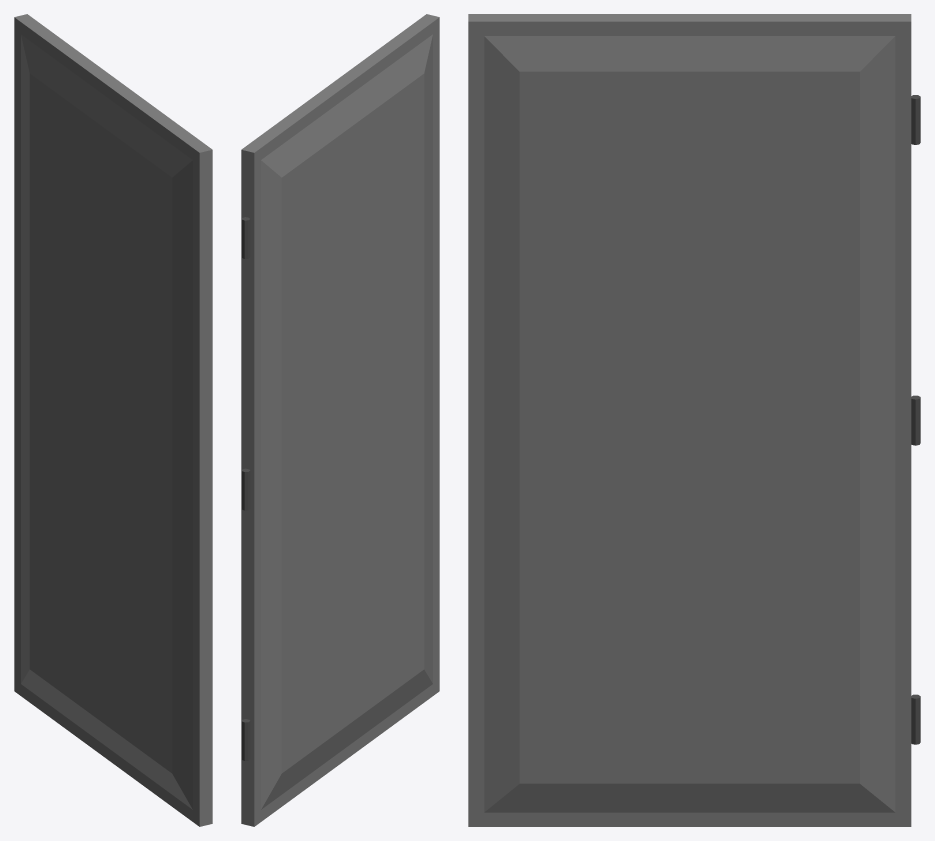
File: Door_03.fbx
The picture shows the model from 3 angles, left to right: view 1: azimuth 30°, elevation 25°; view 2: azimuth 150°, elevation 25°; view 3: azimuth 270°, elevation 25°; orthographic projection. The views are drawn at different scales.
Visible parts, largest first — view 1: Cylindre; view 2: Cylindre; view 3: Cylindre.
Part boxes in pixels (x1,y1,x2,y2): Cylindre: [14, 14, 212, 826]; Cylindre: [241, 14, 439, 826]; Cylindre: [468, 14, 920, 826].
Size of the model in its own units: 13.4 by 345 by 176.
Materials: 1 (1 with a texture image).
